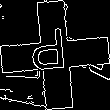P_S: (34, 28, 76, 82)
